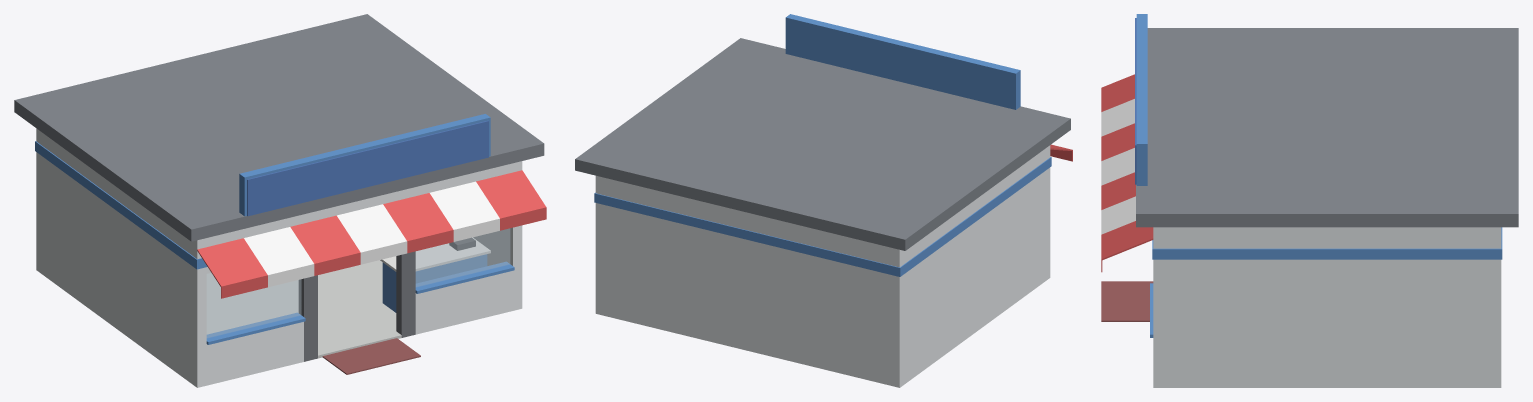
File: Shop.fbx
The picture shows the model from 3 angles, left to right: view 1: azimuth 30°, elevation 25°; view 2: azimuth 150°, elevation 25°; view 3: azimuth 270°, elevation 25°; orthographic projection. The views are drawn at different scales.
Visible parts, largest first — view 1: Roof, Wall Left, Sign Board, Floor, Wall Front Low L, Wall Front Low R, Window L, Window R, Wall Front Top, Awning 0, Awning 3, Awning 2 (+16 smaller); view 2: Roof, Wall Back, Wall Left, Sign Frame, Stripe Back, Stripe Left; view 3: Roof, Wall Right, Stripe Right, Sign Frame, Door Mat, Wall Back, Awning 6, Awning 5, Awning 4, Awning 1, Awning 3, Awning 0 (+1 smaller).
Part boxes in pixels (x1,y1,x2,y2): Roof: (14,14,544,241); Wall Left: (41,132,206,387); Sign Board: (247,120,488,216); Floor: (206,260,396,350); Wall Front Low L: (206,322,303,385); Wall Front Low R: (415,271,512,334); Window L: (207,273,301,337); Window R: (416,228,510,286); Wall Front Top: (206,163,512,273); Awning 0: (197,238,267,298); Awning 3: (337,204,407,264); Awning 2: (290,215,360,275); Roof: (575,38,1070,250); Wall Back: (595,175,904,387); Wall Left: (905,145,1050,383); Sign Frame: (785,14,1020,109); Stripe Back: (594,193,900,276); Stripe Left: (900,157,1051,276); Roof: (1136,28,1518,227); Wall Right: (1153,227,1489,387); Stripe Right: (1153,248,1501,259); Sign Frame: (1136,14,1147,185); Door Mat: (1101,281,1153,321); Wall Back: (1489,227,1501,387); Awning 6: (1101,221,1153,272); Awning 5: (1101,196,1135,234); Awning 4: (1101,172,1135,209); Awning 1: (1101,99,1134,136); Awning 3: (1101,148,1134,185); Awning 0: (1101,74,1134,111).
Size of the model in its own units: 7.6 by 4.25 by 7.2.
